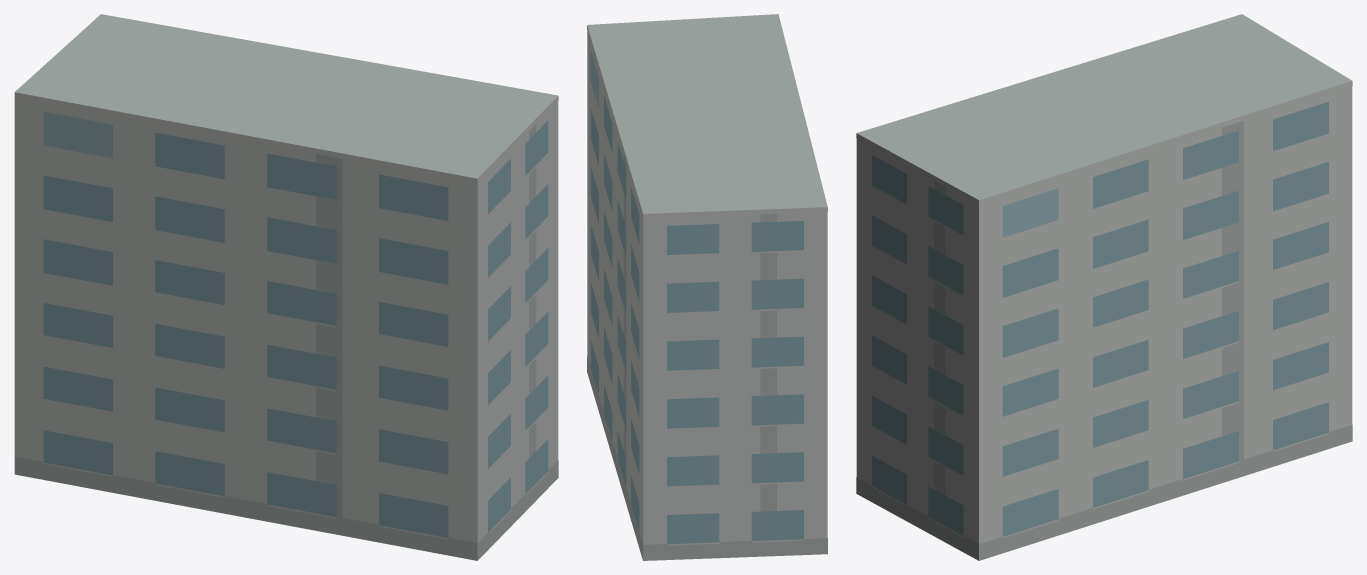
The model's file is survey-upis-32586821.glb.
The picture shows the model from 3 angles, left to right: view 1: azimuth 30°, elevation 25°; view 2: azimuth 150°, elevation 25°; view 3: azimuth 270°, elevation 25°; orthographic projection. The views are drawn at different scales.
Parts seen in each view (by area): view 1: survey-upis-32586821.tmp; view 2: survey-upis-32586821.tmp; view 3: survey-upis-32586821.tmp.
Boxes of the visible parts, box(x1,y1,x2,y2) form: survey-upis-32586821.tmp: box(14, 14, 558, 560); survey-upis-32586821.tmp: box(587, 14, 827, 560); survey-upis-32586821.tmp: box(856, 14, 1352, 560).
Bounding box in the file's own units: 19.17 × 17.3 × 21.57.
